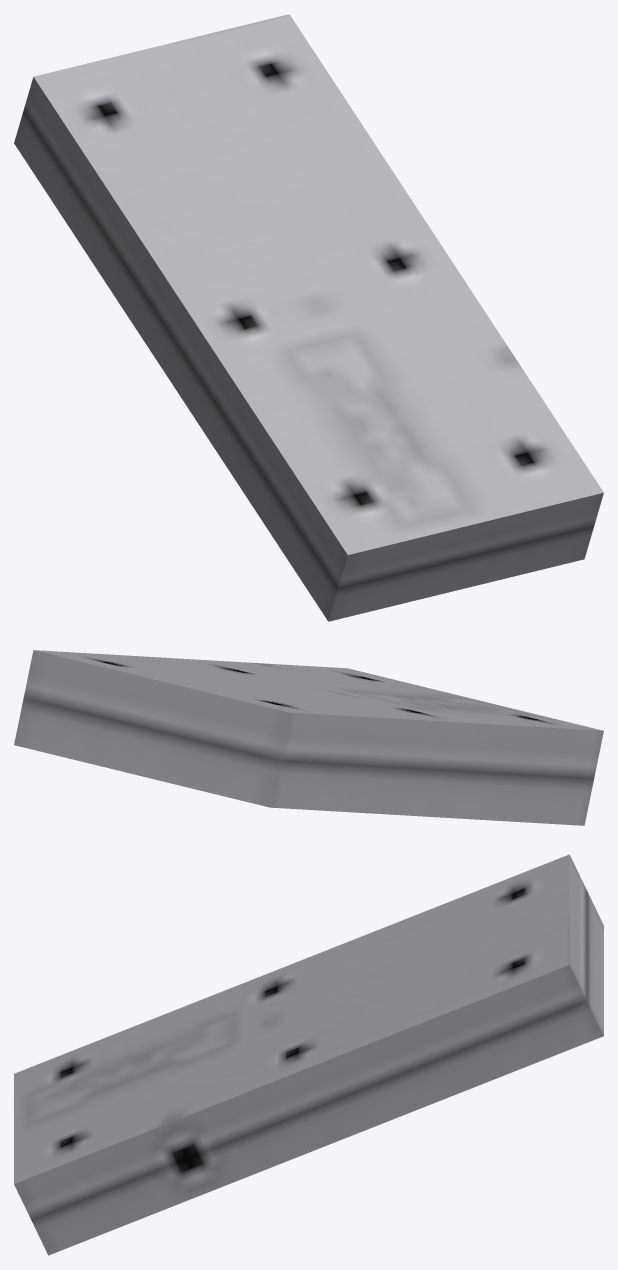
Rendered from NES_Controller_A.fbx.
The picture shows the model from 3 angles, top to bottom: view 1: azimuth 30°, elevation 25°; view 2: azimuth 150°, elevation 25°; view 3: azimuth 270°, elevation 25°; orthographic projection. The views are drawn at different scales.
Visible parts, largest first — view 1: NES_Controller_A; view 2: NES_Controller_A; view 3: NES_Controller_A.
Boxes of the visible parts, x1=… form: NES_Controller_A: x1=14, y1=14, x2=603, y2=621; NES_Controller_A: x1=14, y1=650, x2=603, y2=825; NES_Controller_A: x1=14, y1=854, x2=603, y2=1255.
Bounding box in the file's own units: 0.047 × 0.0577 × 0.1061.
